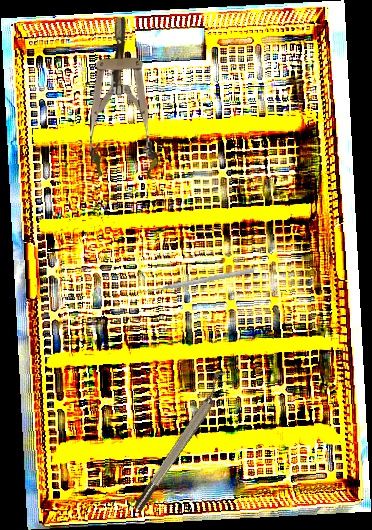Fixation Ring: (125, 367, 237, 514)
Pusher: (137, 266, 255, 297)
Speculum: (88, 16, 158, 181)
